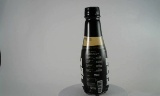appyfizz: (73, 6, 103, 95)
